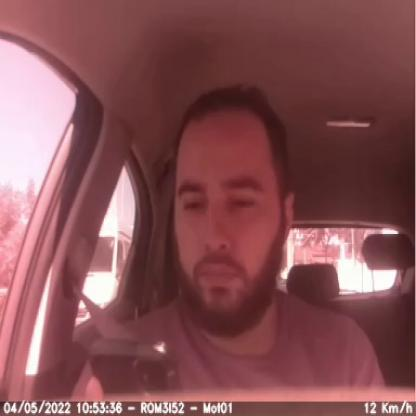phone: (77, 334, 184, 401)
